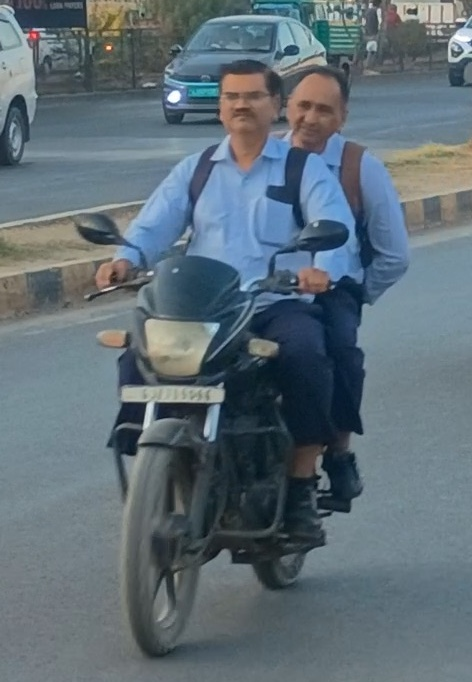BikeWithRider: (67, 54, 419, 664)
NoHelmet: (281, 58, 355, 154), (207, 55, 285, 145)
